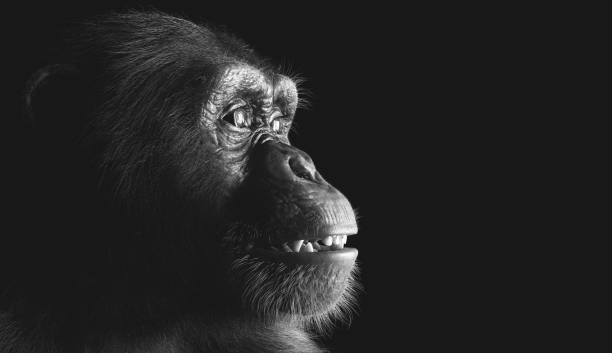chimpanzee: (10, 5, 385, 353)
